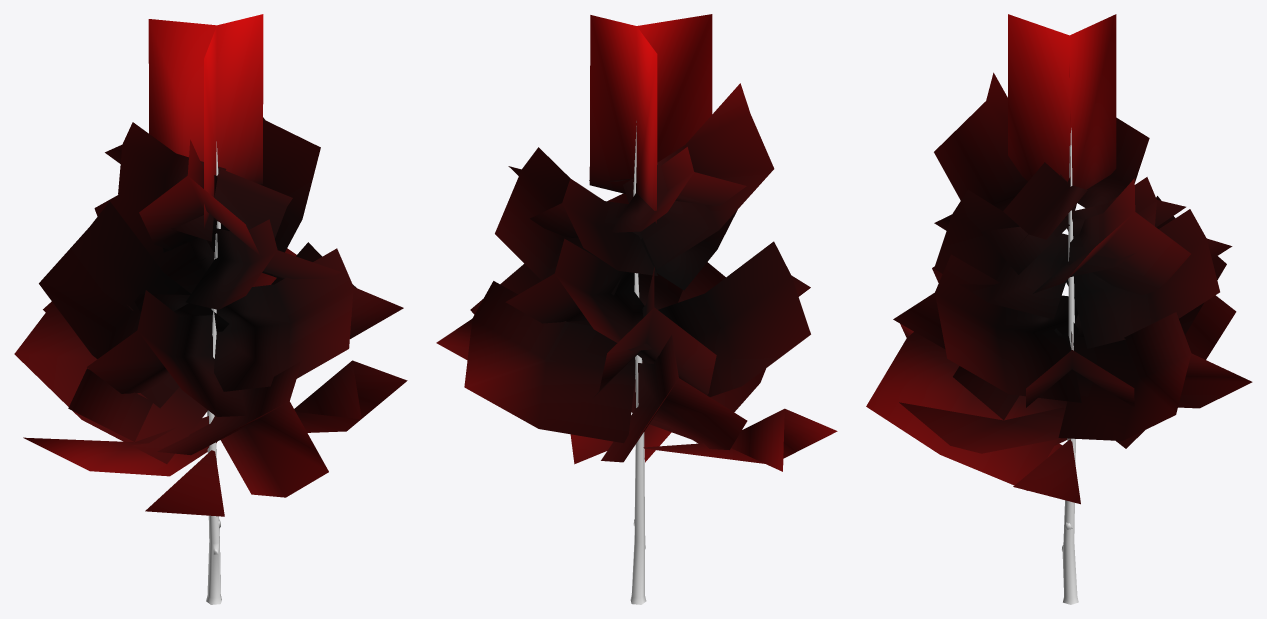
File: baum ld2(enhanced) mod.fbx
3 renders of one model, left to right at view 1: azimuth 30°, elevation 25°; view 2: azimuth 150°, elevation 25°; view 3: azimuth 270°, elevation 25°, orthographic.
Parts seen in each view (by area): view 1: baum_ld2_enhanced_; view 2: baum_ld2_enhanced_; view 3: baum_ld2_enhanced_.
Part boxes in pixels (x1=…): baum_ld2_enhanced_: x1=14, y1=14, x2=407, y2=604; baum_ld2_enhanced_: x1=436, y1=14, x2=837, y2=604; baum_ld2_enhanced_: x1=866, y1=14, x2=1252, y2=604.
Size of the model in its own units: 974 by 1689 by 1045.
